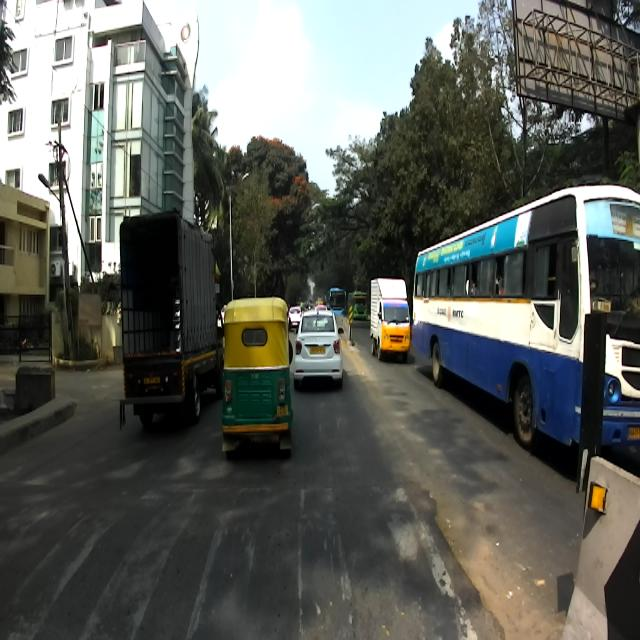auto ahead at: (216, 292, 296, 453)
bus ahead at: (412, 182, 640, 459)
car ahead at: (299, 308, 345, 392)
truck ahead at: (114, 201, 221, 459)
